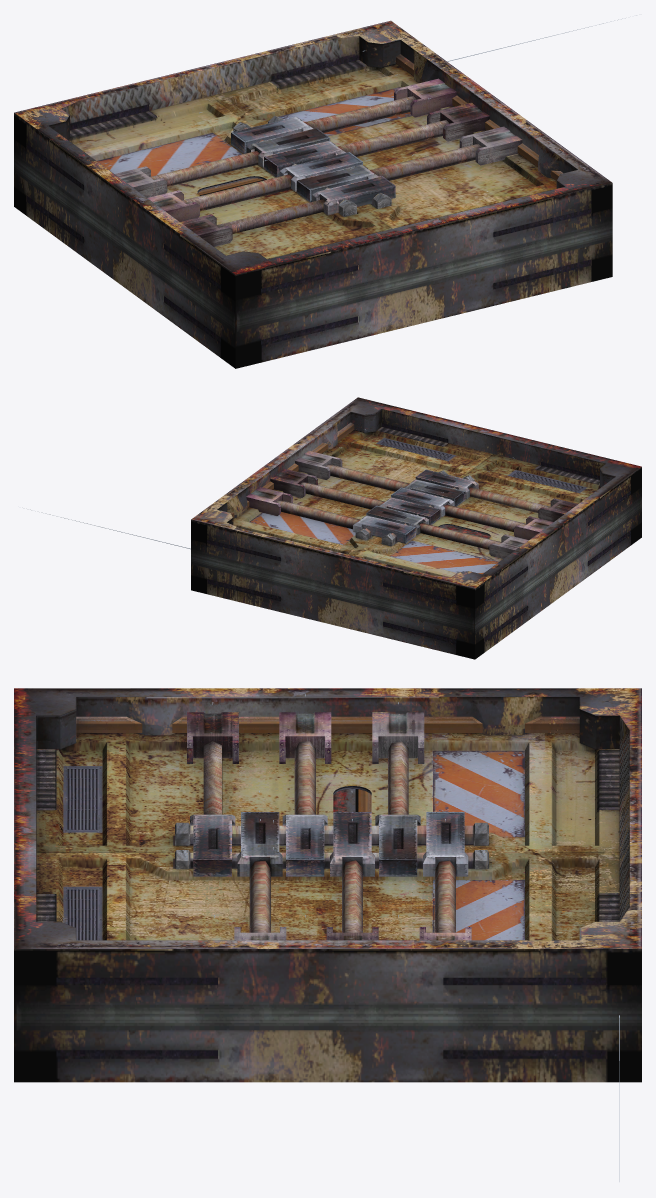
File: Bunker Door.obj
The picture shows the model from 3 angles, top to bottom: view 1: azimuth 30°, elevation 25°; view 2: azimuth 150°, elevation 25°; view 3: azimuth 270°, elevation 25°; orthographic projection. The views are drawn at different scales.
Parts seen in each view (by area): view 1: Bunker_Door; view 2: Bunker_Door; view 3: Bunker_Door.
Part boxes in pixels (box(x1,y1,x2,y2)): Bunker_Door: box(14, 20, 612, 368); Bunker_Door: box(191, 397, 641, 659); Bunker_Door: box(14, 688, 641, 1082).
Bounding box in the file's own units: 621 × 132 × 385.
